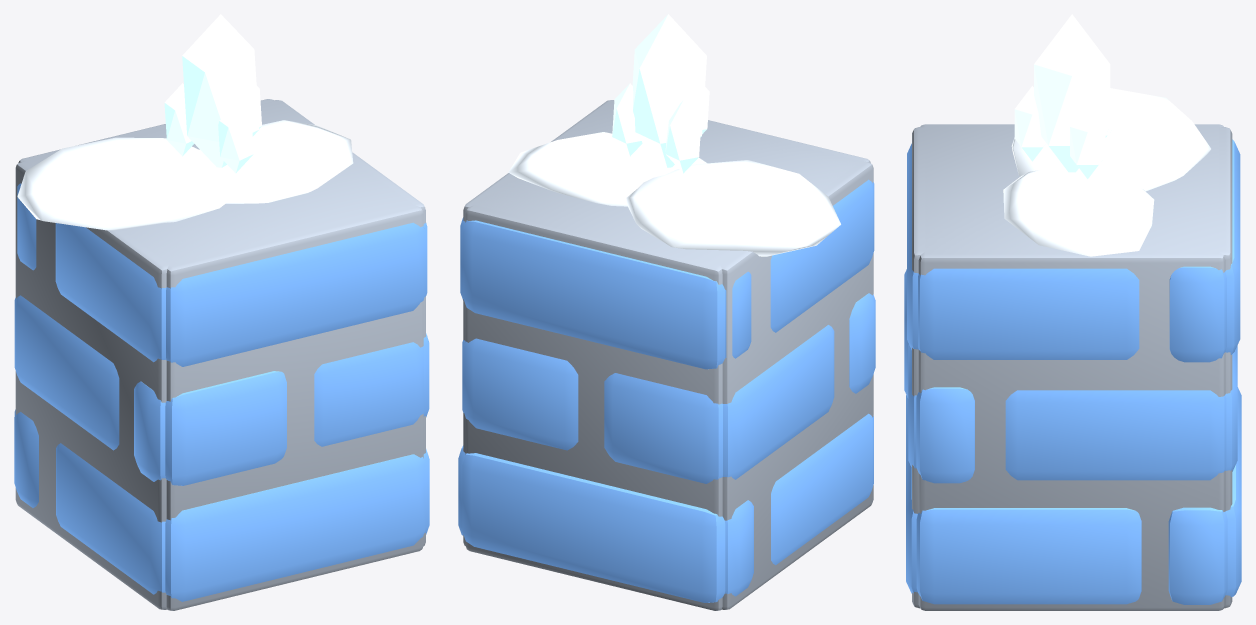
File: wall_corner.glb
3 views of the same model, side by side, from view 1: azimuth 30°, elevation 25°; view 2: azimuth 150°, elevation 25°; view 3: azimuth 270°, elevation 25° (orthographic). The views are drawn at different scales.
Parts seen in each view (by area): view 1: wall_corner; view 2: wall_corner; view 3: wall_corner.
Boxes of the visible parts, x1,y1,x2,y2 form: wall_corner: [14, 14, 429, 610]; wall_corner: [458, 14, 875, 610]; wall_corner: [904, 14, 1241, 610].
Bounding box in the file's own units: 0.5688 × 0.88 × 0.5062.
